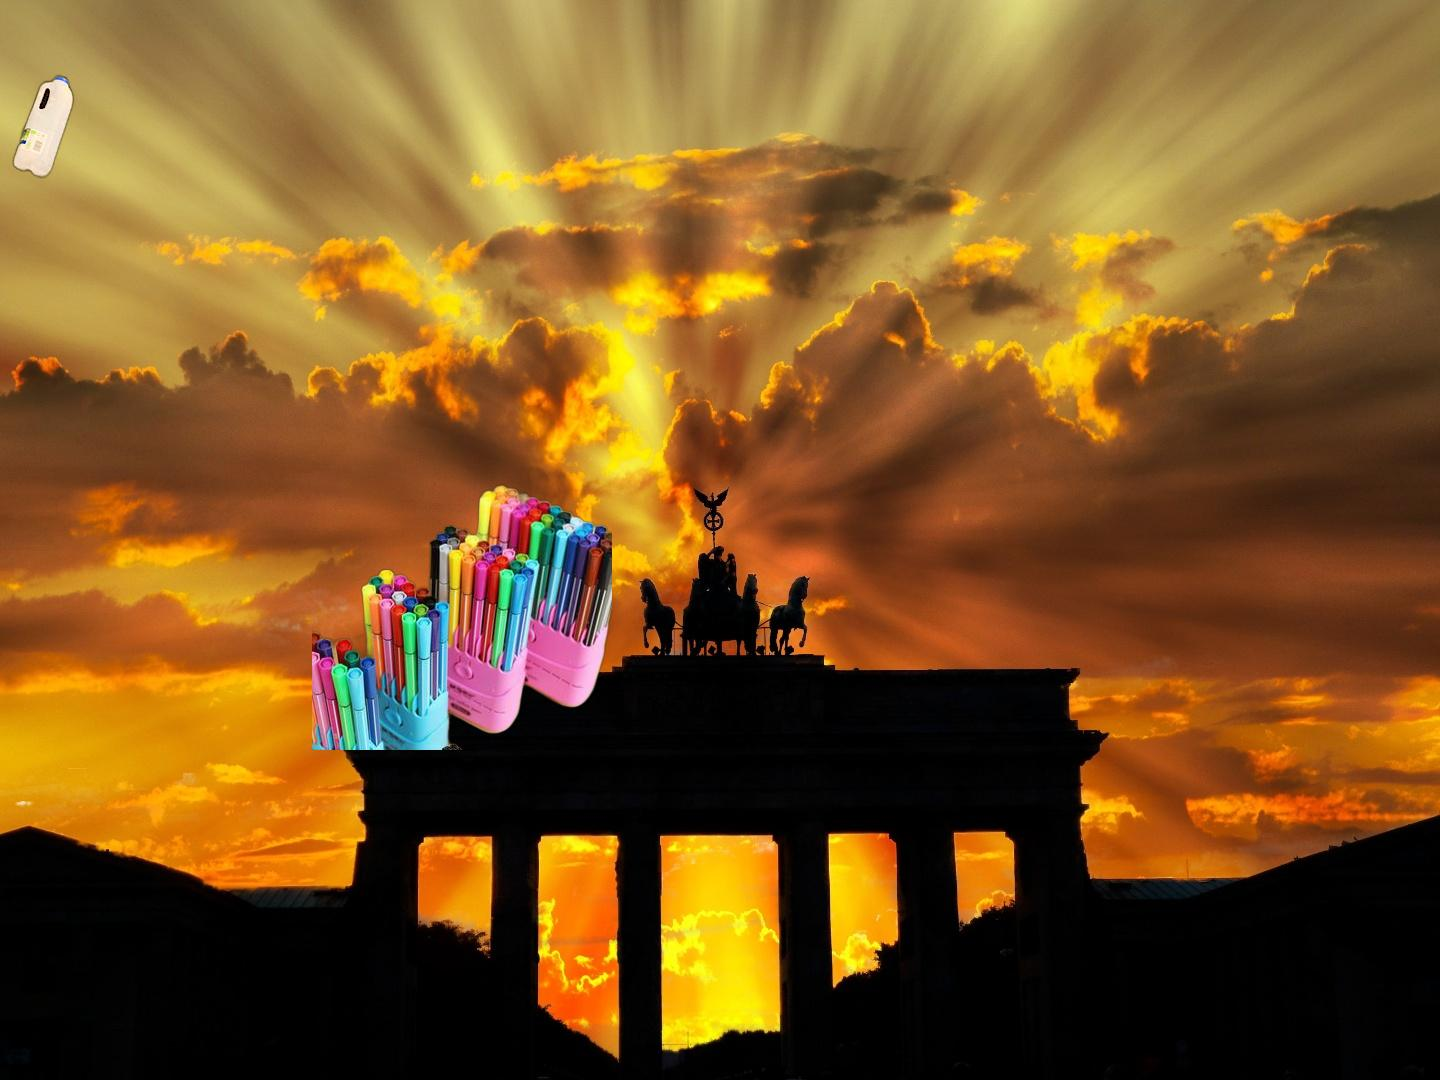penholder: (312, 482, 612, 750)
plastic-bottles: (9, 70, 77, 186), (769, 1074, 880, 1080)
